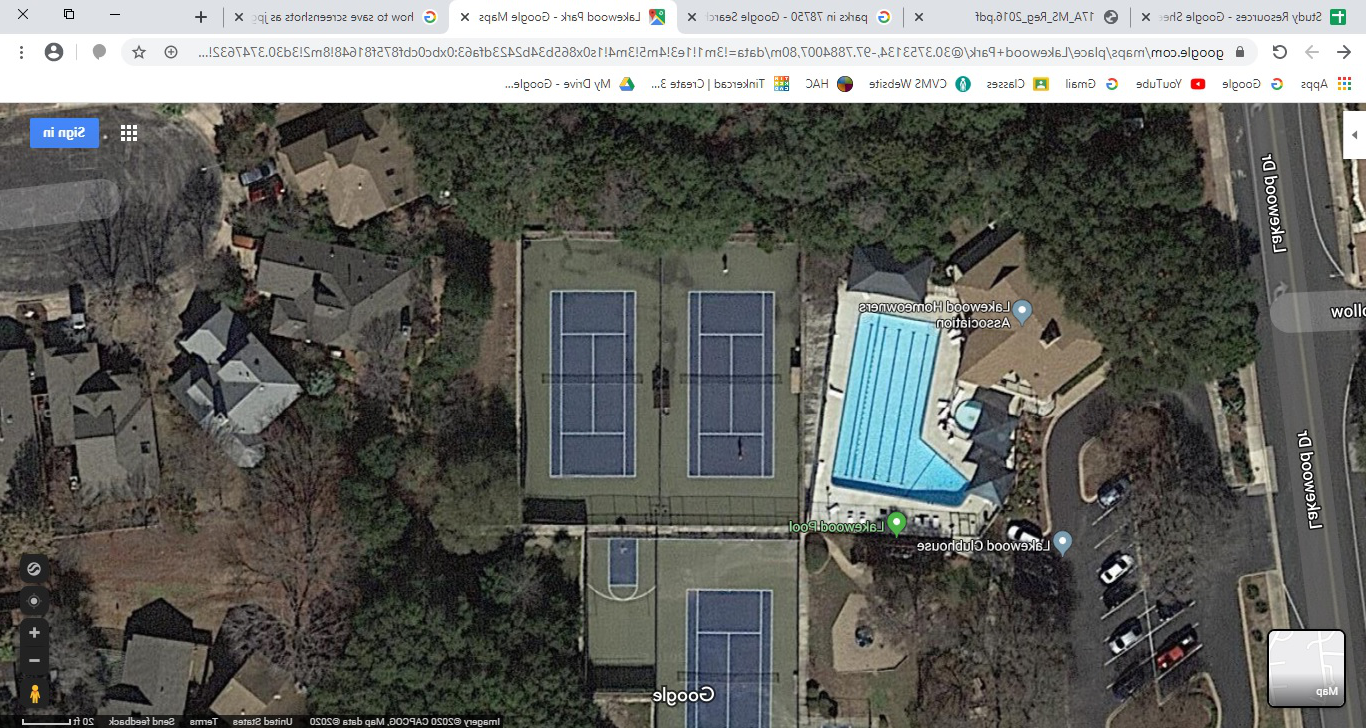pool: (818, 293, 1021, 567)
tennis: (652, 574, 831, 724), (527, 271, 645, 498), (678, 267, 785, 487)
